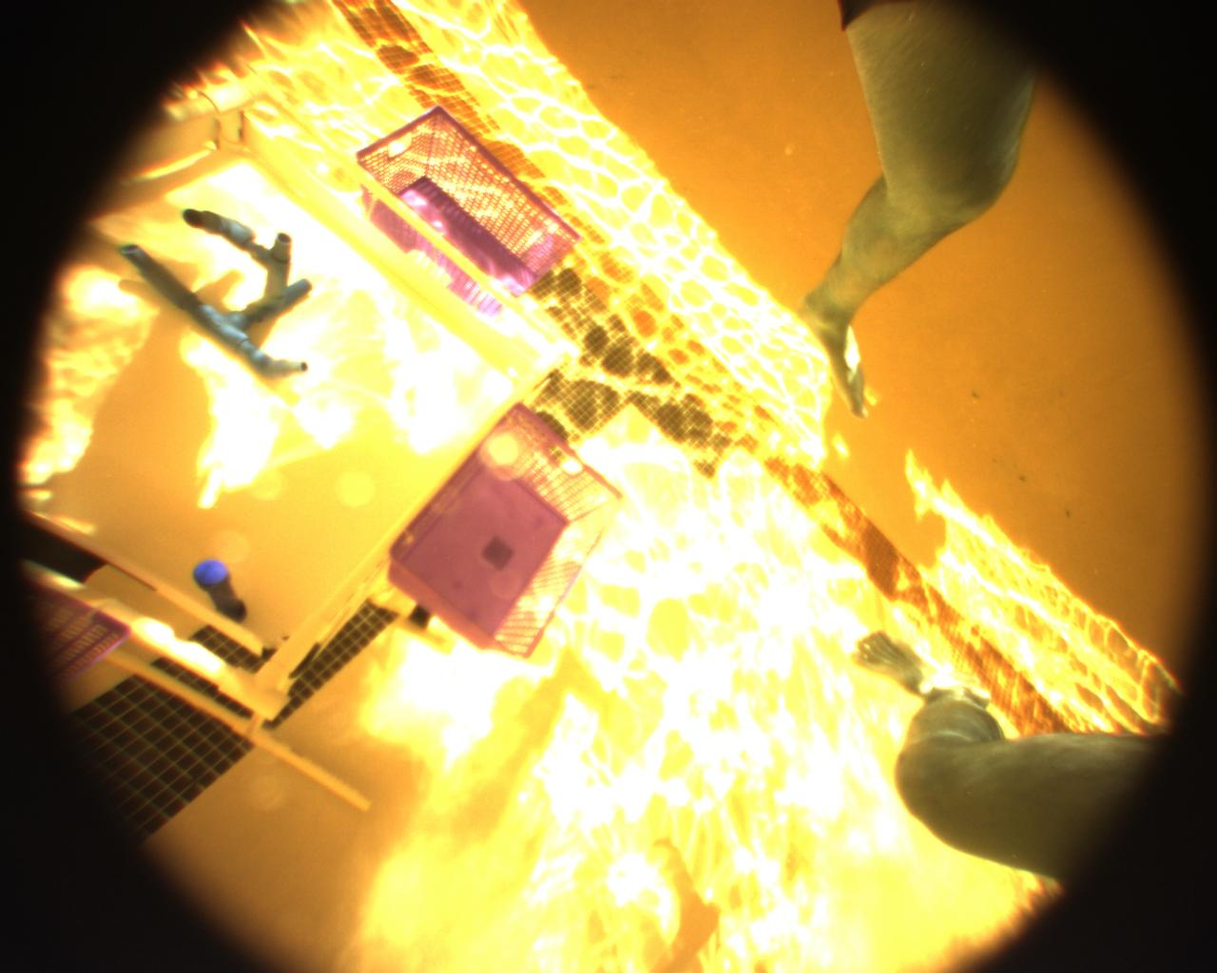coral: (112, 192, 346, 385), (180, 546, 254, 617)
coral-box-top: (0, 113, 571, 670)
